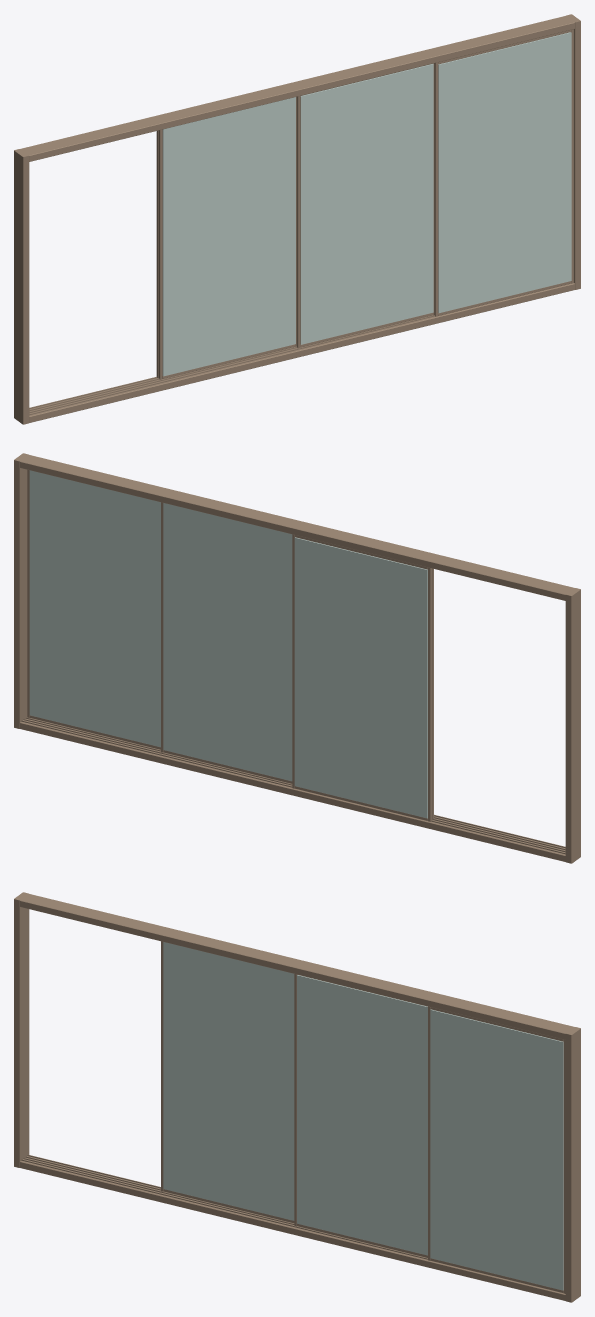
Rendered from co-S140RP-4-quartz-1019-ouvert.glb.
The picture shows the model from 3 angles, top to bottom: view 1: azimuth 30°, elevation 25°; view 2: azimuth 150°, elevation 25°; view 3: azimuth 330°, elevation 25°; orthographic projection.
Parts seen in each view (by area): view 1: verre, structure; view 2: verre, structure; view 3: verre, structure.
Boxes of the visible parts, x1=… form: verre: x1=162, y1=32, x2=571, y2=376; structure: x1=14, y1=14, x2=580, y2=424; verre: x1=29, y1=470, x2=427, y2=818; structure: x1=14, y1=453, x2=580, y2=863; verre: x1=163, y1=942, x2=563, y2=1290; structure: x1=14, y1=892, x2=580, y2=1302.
Bounding box in the file's own units: 4.8 × 2.2 × 0.14.
